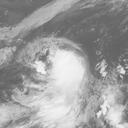cyclone: (33, 37, 90, 97)
